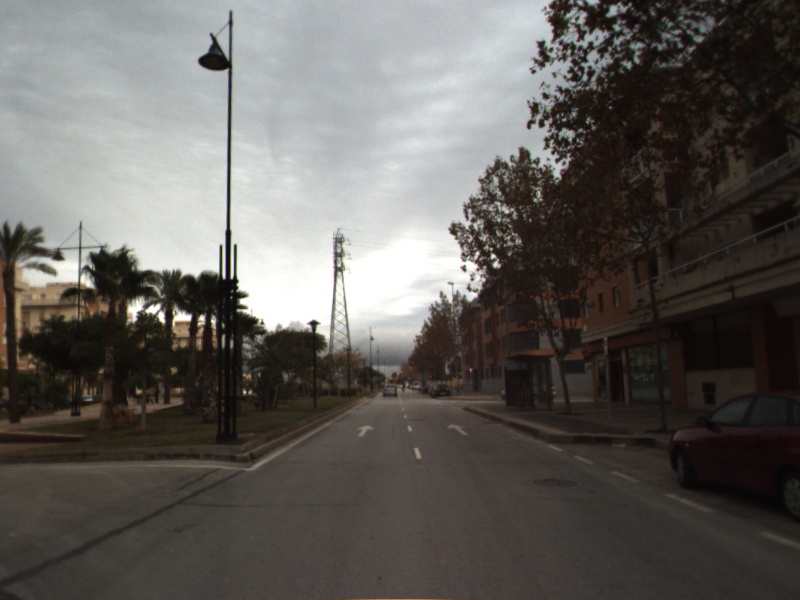STRAIGHT: (445, 421, 471, 437), (355, 422, 377, 438)
